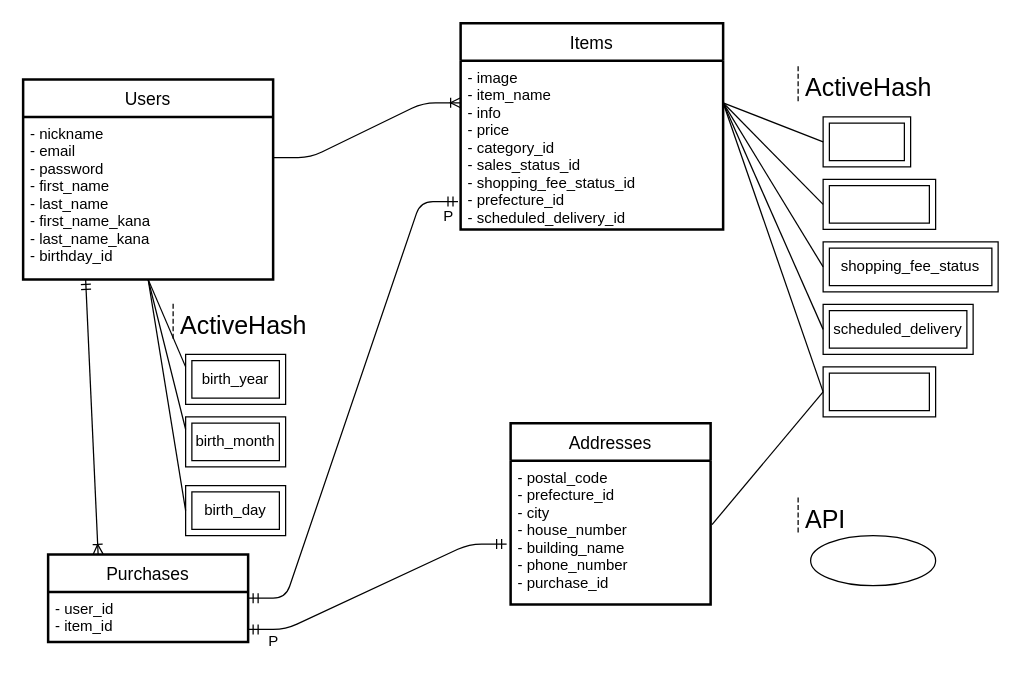
Some shapes in this 1020 by 675 pixel diagram are drawn without their labels. The shapes that lost their labels are listed below. From the top down, each one's centre as x and y in pixels, then its label:
At point 866,141: "category".
At point 879,203: "sales_status".
At point 879,391: "prefecture".
At point 872,560: "Pay.jp".
